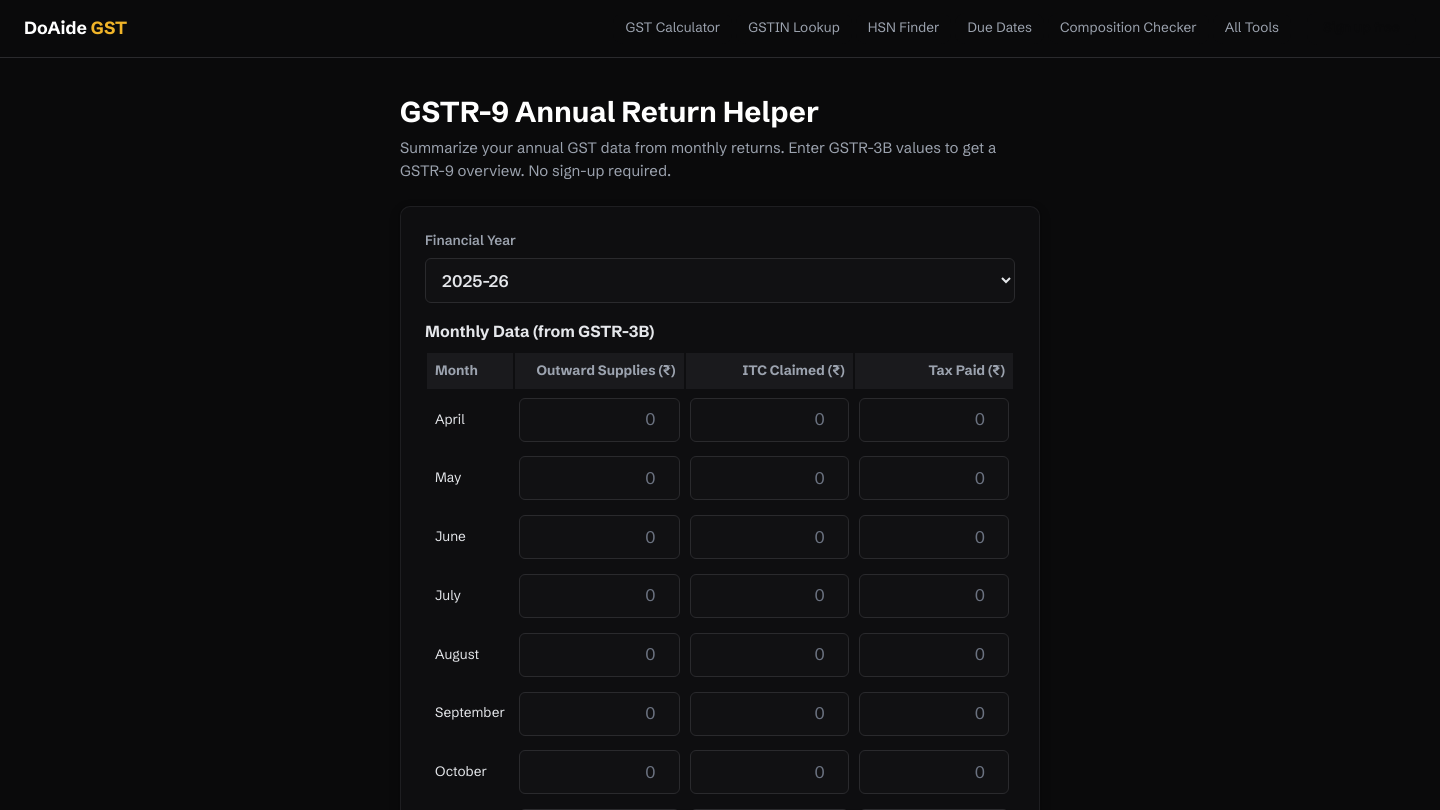
Gstr9HelperPage › shows share buttons on result
Type "500000" into the 1st number field with placeholder "0" at (599, 420), box [519, 398, 680, 442]
(page scrolled)
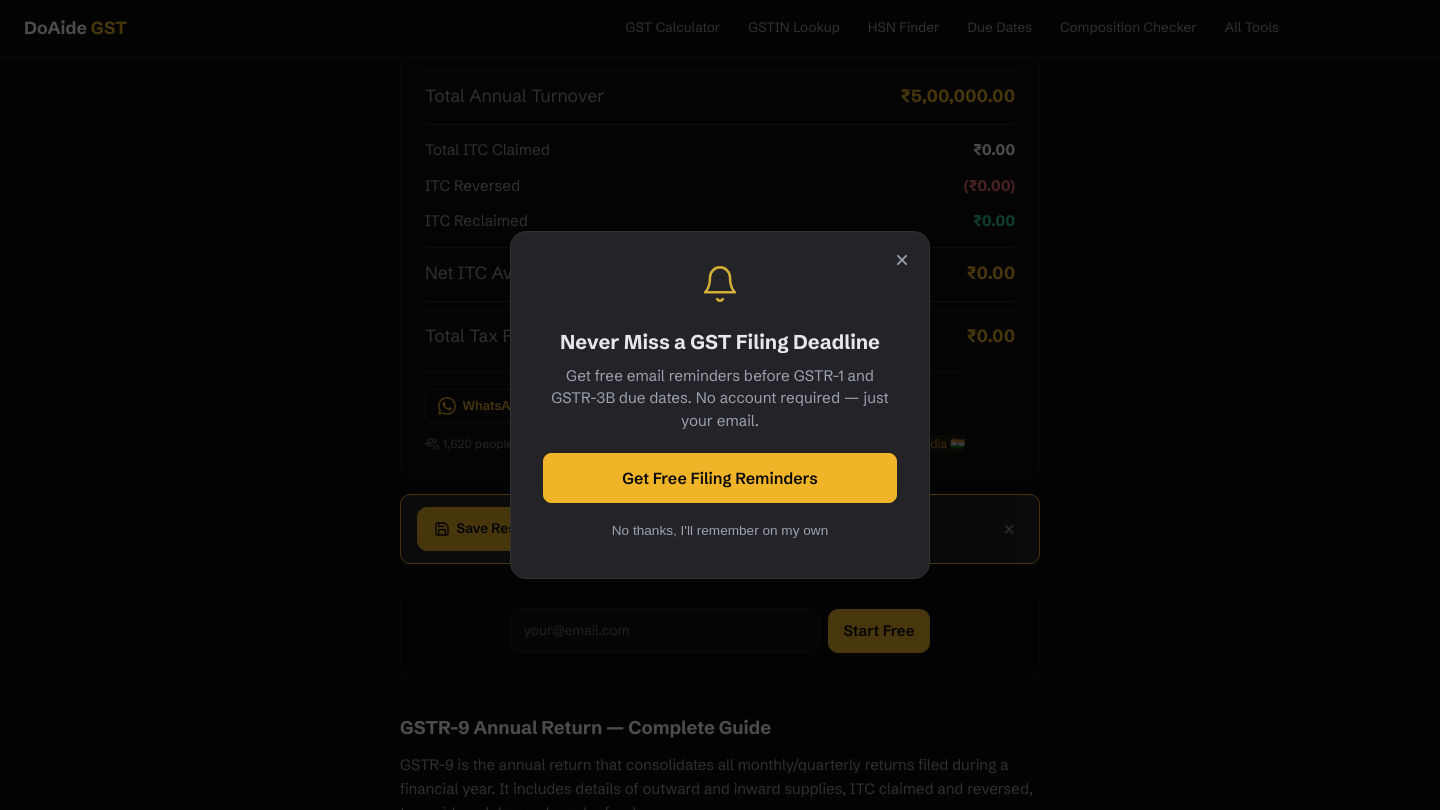
Result: the link with aria-label "Share on WhatsApp" is shown at [425, 389, 539, 423]
